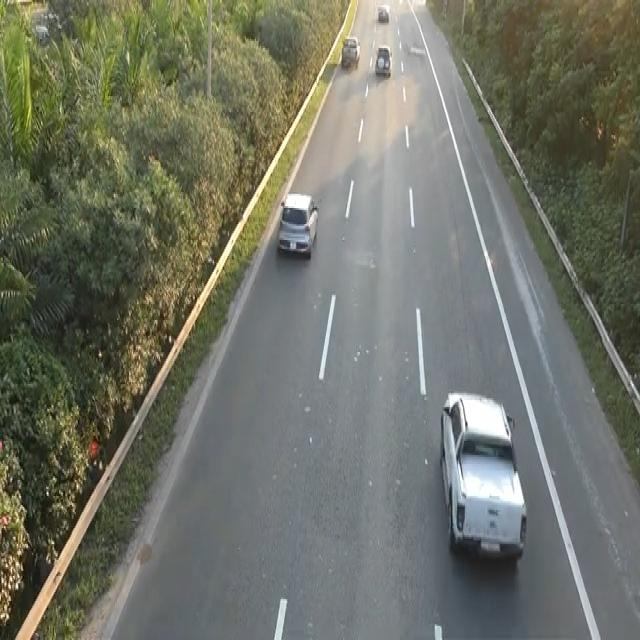bus: (276, 188, 319, 258)
car: (437, 387, 531, 569), (373, 42, 392, 76)
